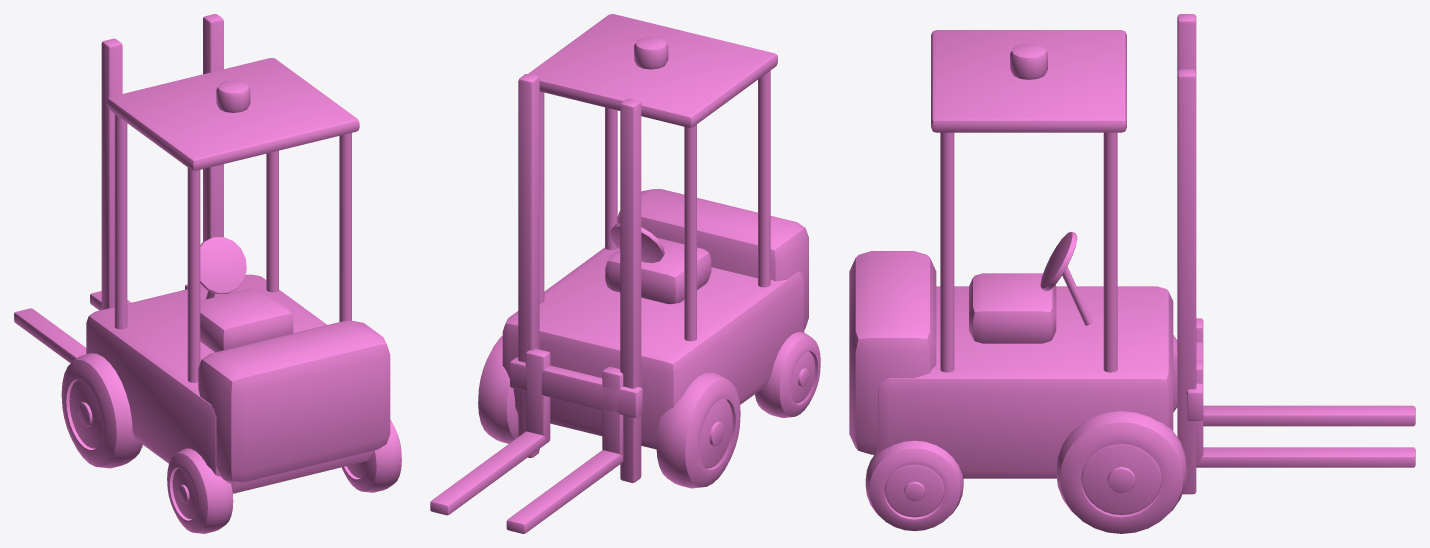
File: Docks_Forklift.fbx
3 views of the same model, side by side, from view 1: azimuth 30°, elevation 25°; view 2: azimuth 150°, elevation 25°; view 3: azimuth 270°, elevation 25° (orthographic). The views are drawn at different scales.
Visible parts, largest first — view 1: Forklift; view 2: Forklift; view 3: Forklift.
Boxes of the visible parts, box(x1,y1,x2,y2) form: Forklift: box(14, 14, 401, 533); Forklift: box(430, 14, 820, 533); Forklift: box(849, 14, 1415, 533).
Size of the model in its own units: 5.14 by 8.85 by 10.4.
1 material, 1 textured.
